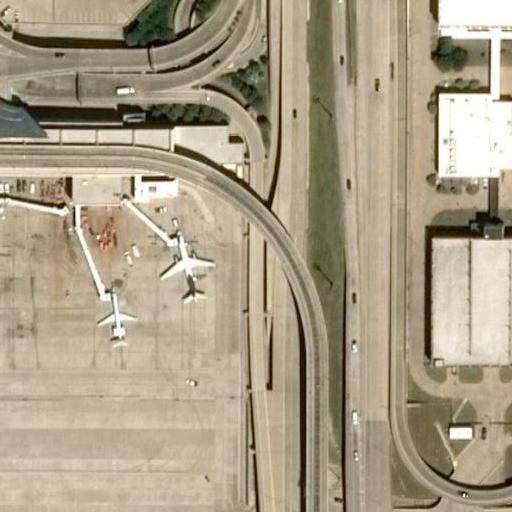Aircraft: (161, 233, 210, 306), (94, 282, 133, 338)
